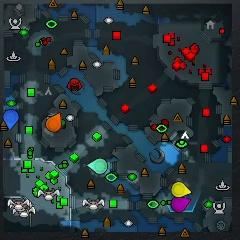p1: (3, 109, 19, 129)
p2: (88, 158, 108, 174)
p3: (171, 196, 191, 212)
p4: (171, 182, 192, 198)
p5: (46, 112, 61, 132)
